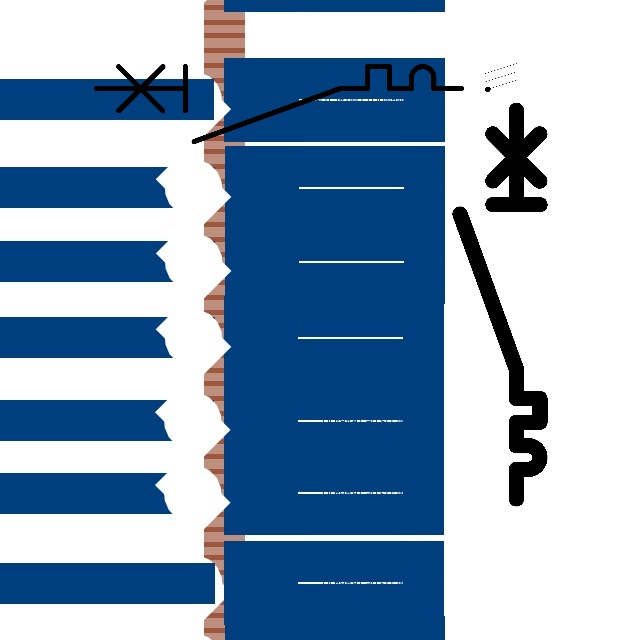interruptor_termomagnetico: (450, 100, 550, 509), (87, 57, 471, 151)
